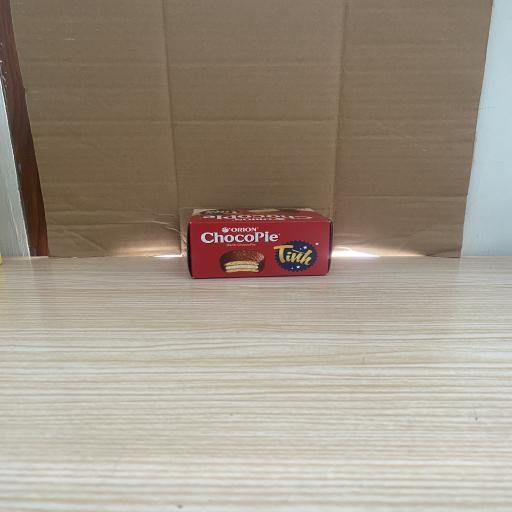chocopie: (187, 208, 333, 279)
